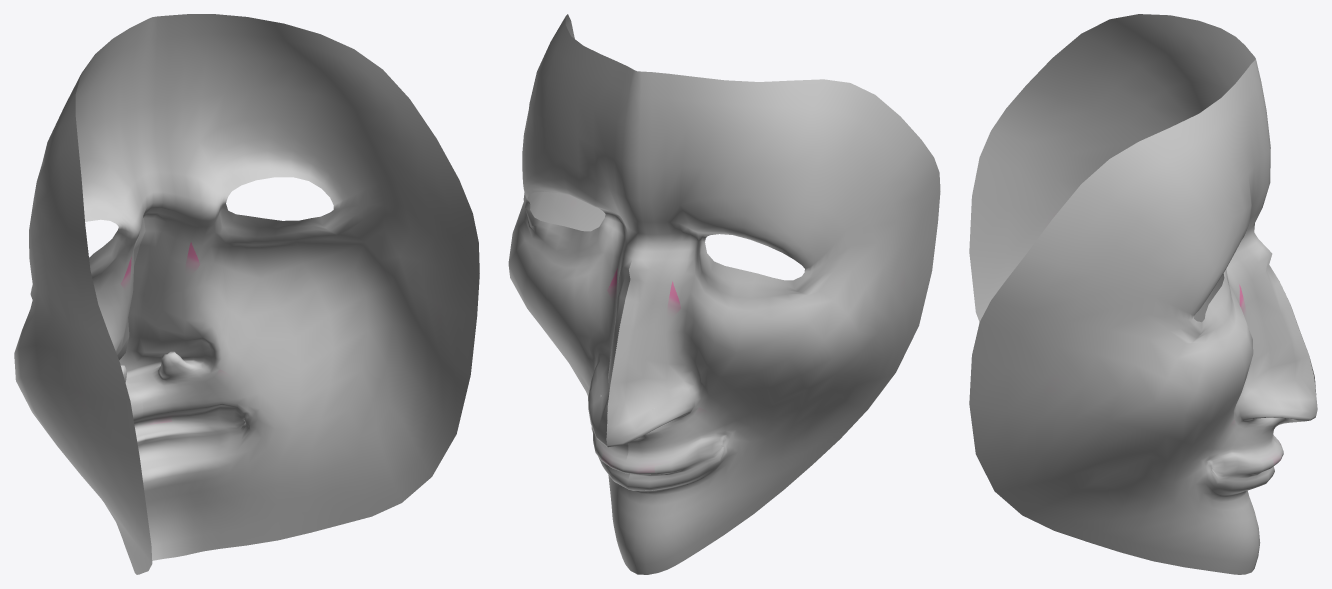
The model's file is happy_mask_porcelain.fbx.
3 views of the same model, side by side, from view 1: azimuth 30°, elevation 25°; view 2: azimuth 150°, elevation 25°; view 3: azimuth 270°, elevation 25° (orthographic). The views are drawn at different scales.
Visible parts, largest first — view 1: Happy mask; view 2: Happy mask; view 3: Happy mask.
Part boxes in pixels (x1,y1,x2,y2): Happy mask: (14, 14, 479, 574); Happy mask: (508, 14, 940, 574); Happy mask: (969, 14, 1317, 574).
Bounding box in the file's own units: 201 × 278 × 172.
Materials: 1 (1 with a texture image).
